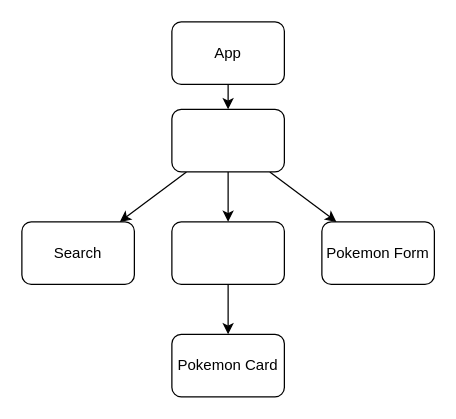
Some shapes in this 456 by 419 pixel diagram are drawn without their labels. The shapes that lost their labels are listed below. From the top down, each one's centre as x and y in pixels, then its label:
pixel 227 140: Pokemon Page
pixel 227 252: Pokemon Collection
